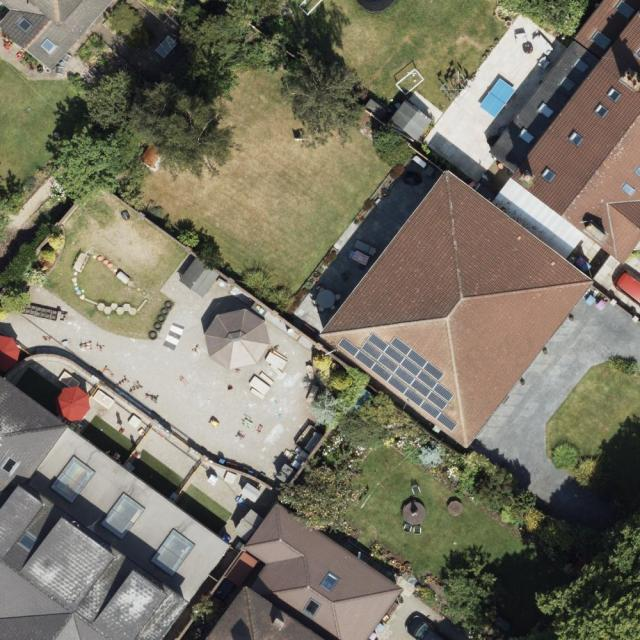roof: (315, 167, 593, 451), (0, 372, 234, 640), (487, 0, 640, 267), (204, 503, 403, 640), (0, 0, 117, 68), (204, 309, 272, 370)
skylight: (50, 454, 97, 504), (150, 527, 198, 575), (101, 490, 145, 539), (317, 570, 342, 596), (16, 530, 40, 553), (590, 29, 613, 51), (1, 455, 21, 477), (614, 0, 635, 20), (618, 179, 637, 199), (517, 126, 536, 145), (539, 165, 557, 184), (39, 35, 57, 53), (536, 102, 555, 119), (566, 130, 585, 147), (560, 75, 577, 94), (15, 16, 34, 32), (593, 101, 610, 118), (607, 86, 623, 103), (574, 57, 591, 72), (306, 599, 320, 617), (633, 163, 640, 179), (635, 47, 640, 59)
solar: (339, 332, 458, 432)
